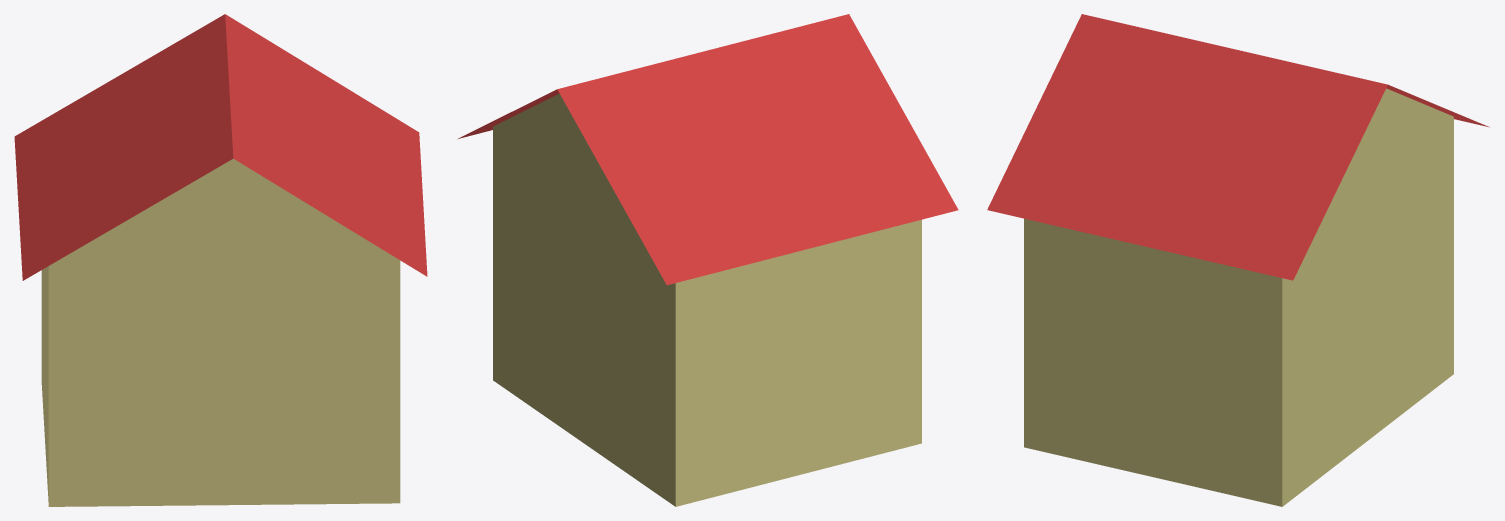
The picture shows the model from 3 angles, left to right: view 1: azimuth 30°, elevation 25°; view 2: azimuth 150°, elevation 25°; view 3: azimuth 270°, elevation 25°; orthographic projection. The views are drawn at different scales.
Visible parts, largest first — view 1: group_5, group_3, group_4; view 2: group_5, group_3, group_4; view 3: group_5, group_3, group_4.
Part boxes in pixels (x1,y1,x2,y2): group_5: (41,158,400,506); group_3: (15,14,427,280); group_4: (14,14,419,279); group_5: (493,93,921,506); group_3: (458,14,958,284); group_4: (466,14,956,285); group_5: (1024,88,1453,506); group_3: (987,14,1489,280); group_4: (1111,79,1389,280).
Bounding box in the file's own units: 14.6 × 13.9 × 11.1.
